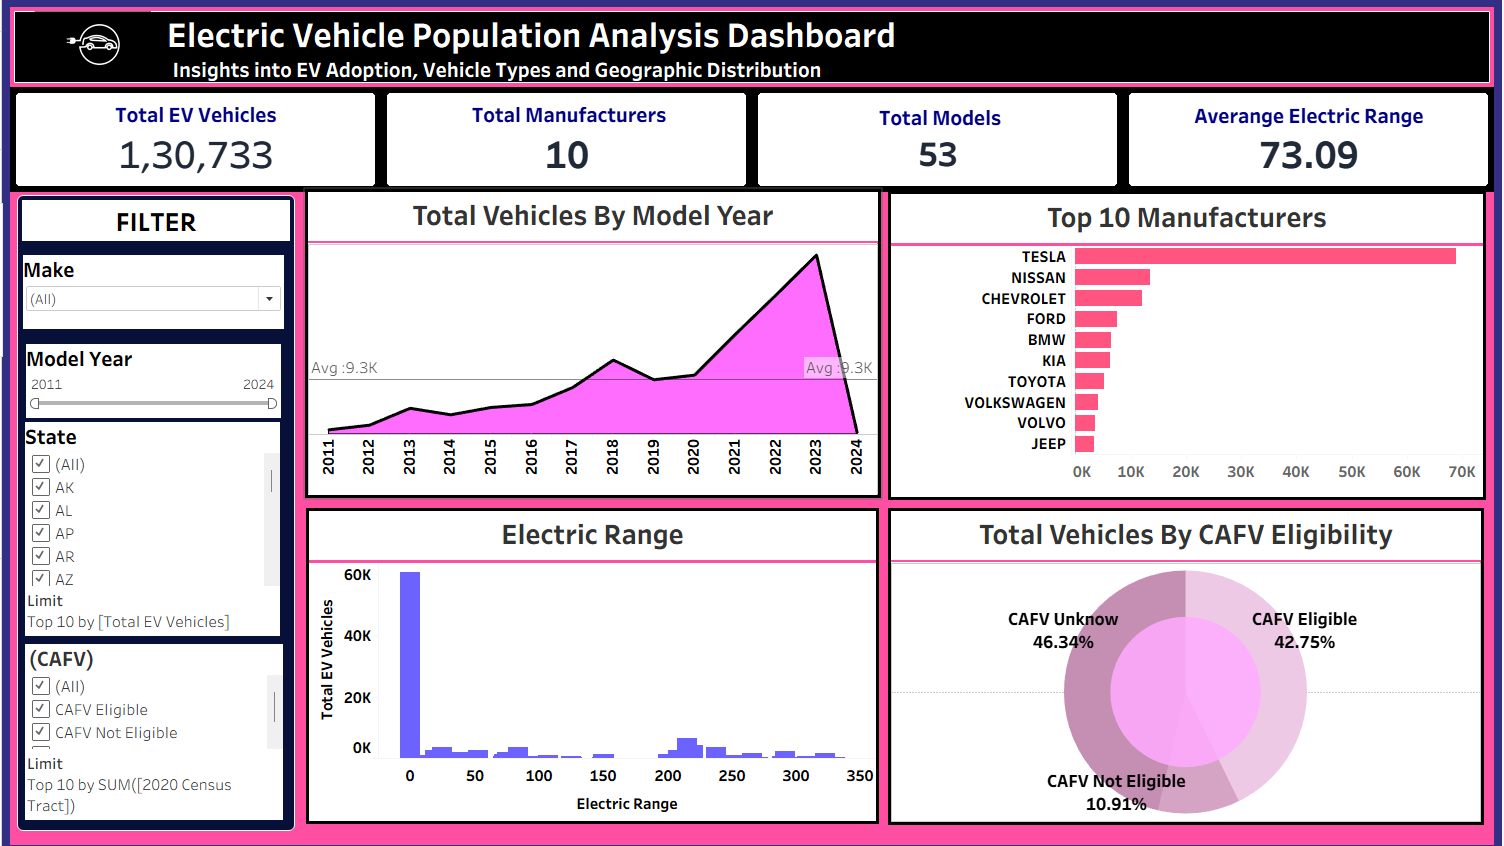

What the dashboard file says about the page in this screenshot:
{"tool":"tableau","page":{"name":"Dashboard 1","canvas":[1500,900],"ordinal":0},"visuals":[{"type":"title","box":[8,8,1484,80]},{"type":"image","param":"C:/Users/Vanithav/OneDrive/Pictures/car.jpg","box":[14,13,153,70]},{"type":"worksheet","title":"Total EV Vehicles","mark":"Automatic","box":[8,88,371,105]},{"type":"worksheet","title":"Manufacturers","mark":"Automatic","box":[379,88,371,105]},{"type":"worksheet","title":"Total Models","mark":"Automatic","box":[750,88,371,105]},{"type":"worksheet","title":"Averange Electric Range","mark":"Automatic","box":[1121,88,371,105]},{"type":"worksheet","title":"Total Vehicles By Model Year","mark":"Area","rows":["Calculation_1519028880293889","Calculation_1519028880293889"],"cols":["Model Year"],"box":[303,200,576,326]},{"type":"worksheet","title":"Top 10 Manufacturers","mark":"Bar","rows":["Make"],"cols":["VIN (1-10)"],"box":[886,202,598,326]},{"type":"text","box":[16,208,276,49]},{"type":"filter","title":"Total Vehicles By Model Year","param":"[federated.1s84h5s0t4a44d1c0vmj81d5a2st].[none:Make:nk]","box":[21,270,261,78]},{"type":"filter","title":"Top 10 Manufacturers","param":"[federated.1s84h5s0t4a44d1c0vmj81d5a2st].[none:Model Year:qk]","box":[24,364,255,78]},{"type":"filter","title":"Total Vehicles By Model Year","param":"[federated.1s84h5s0t4a44d1c0vmj81d5a2st].[none:State:nk]","box":[23,446,255,225]},{"type":"worksheet","title":"Electric Range","mark":"Bar","rows":["Calculation_1519028880293889"],"cols":["Electric Range"],"box":[304,536,573,333]},{"type":"worksheet","title":"Total Vehicles By CAFV Eligibility","mark":"Pie","rows":["Calculation_1519028935237644","Calculation_1519028935811087"],"box":[886,536,596,334]},{"type":"filter","title":"Total Vehicles By Model Year","param":"[federated.1s84h5s0t4a44d1c0vmj81d5a2st].[none:Clean Alternative Fuel Vehicle (C","box":[23,680,258,185]}]}

Visuals, with their boxes in screenshot pixels (x1, y1, x2, y2):
title: 43, 4, 1469, 81
image: 49, 9, 196, 76
"Total EV Vehicles" worksheet: 43, 81, 399, 182
"Manufacturers" worksheet: 399, 81, 756, 182
"Total Models" worksheet: 756, 81, 1113, 182
"Averange Electric Range" worksheet: 1113, 81, 1469, 182
"Total Vehicles By Model Year" worksheet (Area marks): 326, 188, 880, 502
"Top 10 Manufacturers" worksheet (Bar marks): 887, 190, 1461, 504
text: 51, 196, 316, 243
"Total Vehicles By Model Year" filter: 55, 256, 306, 331
"Top 10 Manufacturers" filter: 58, 346, 303, 421
"Total Vehicles By Model Year" filter: 57, 425, 302, 641
"Electric Range" worksheet (Bar marks): 327, 511, 878, 831
"Total Vehicles By CAFV Eligibility" worksheet (Pie marks): 887, 511, 1460, 832
"Total Vehicles By Model Year" filter: 57, 650, 305, 827
